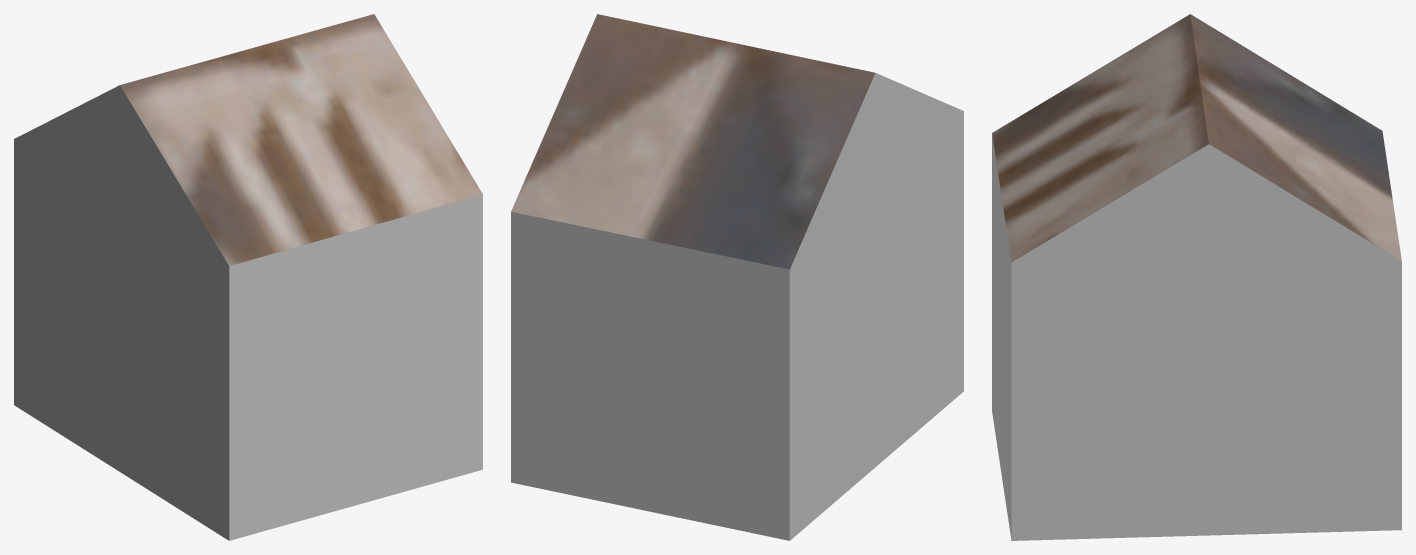
Rendered from DEBW_0010007Txaa.gltf.
3 renders of one model, left to right at view 1: azimuth 30°, elevation 25°; view 2: azimuth 150°, elevation 25°; view 3: azimuth 270°, elevation 25°, orthographic.
Parts seen in each view (by area): view 1: Z_UP; view 2: Z_UP; view 3: Z_UP.
Part boxes in pixels (x1,y1,x2,y2): Z_UP: (14,14,482,540); Z_UP: (511,14,963,540); Z_UP: (992,14,1401,540).
Size of the model in its own units: 8.22 by 10.64 by 10.1.
Materials: 2 (1 with a texture image).
